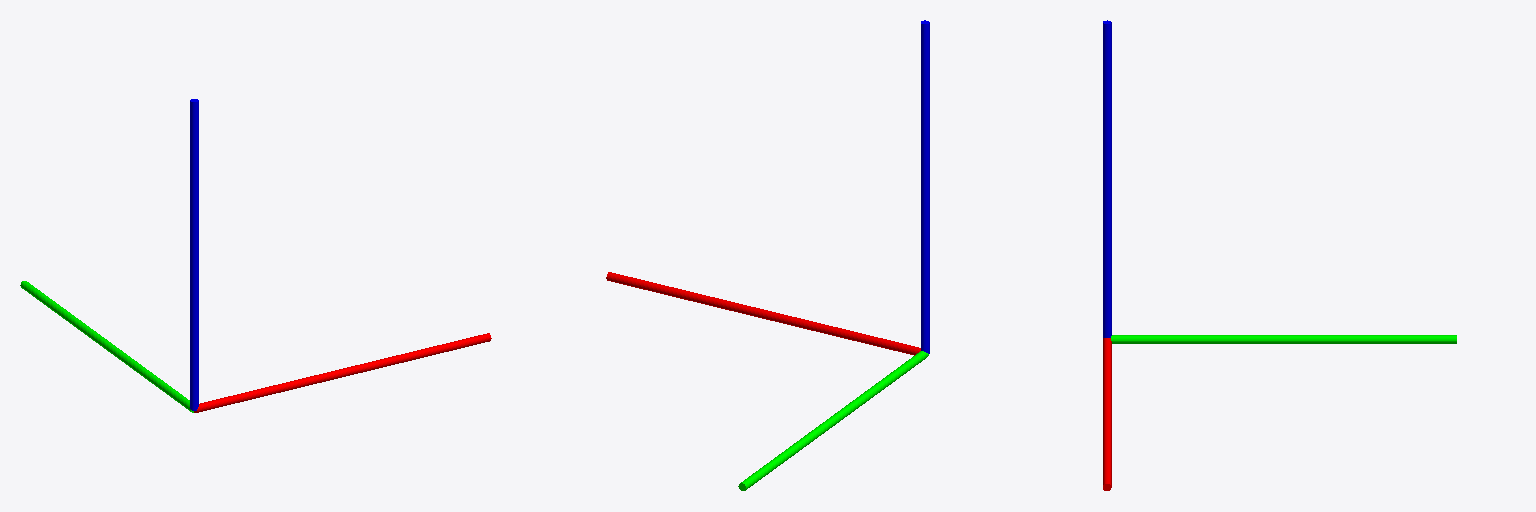
The robot description file, URDF, robot "coordinate_frame":
<?xml version="1.0"?>
<robot name="coordinate_frame">

  <!-- X axis (Red) -->
  <link name="x_axis">
    <visual>
      <origin xyz="0.2 0 0" rpy="0 1.5708 0" />
      <geometry>
        <cylinder length="0.4" radius="0.005" />
      </geometry>
      <material name="red">
        <color rgba="1 0 0 1" />
      </material>
    </visual>
  </link>

  <!-- Y axis (Green) -->
  <link name="y_axis">
    <visual>
      <origin xyz="0 0.2 0" rpy="-1.5708 0 0" />
      <geometry>
        <cylinder length="0.4" radius="0.005" />
      </geometry>
      <material name="green">
        <color rgba="0 1 0 1" />
      </material>
    </visual>
  </link>

  <!-- Z axis (Blue) -->
  <link name="z_axis">
    <visual>
      <origin xyz="0 0 0.2" rpy="0 0 0" />
      <geometry>
        <cylinder length="0.4" radius="0.005" />
      </geometry>
      <material name="blue">
        <color rgba="0 0 1 1" />
      </material>
    </visual>
  </link>

  <!-- Base link -->
  <link name="base_link" />

  <joint name="base_to_x" type="fixed">
    <parent link="base_link" />
    <child link="x_axis" />
    <origin xyz="0 0 0" rpy="0 0 0" />
  </joint>

  <joint name="base_to_y" type="fixed">
    <parent link="base_link" />
    <child link="y_axis" />
    <origin xyz="0 0 0" rpy="0 0 0" />
  </joint>

  <joint name="base_to_z" type="fixed">
    <parent link="base_link" />
    <child link="z_axis" />
    <origin xyz="0 0 0" rpy="0 0 0" />
  </joint>

</robot>

--- What the picture shows (computed from the rendered views, not written in the file) ---
Views: 3 orthographic renders of the robot side by side, from view 1: azimuth 30°, elevation 25°; view 2: azimuth 150°, elevation 25°; view 3: azimuth 270°, elevation 25°.
Model coordinate_frame with 4 links and 3 joints (3 fixed), rooted at base_link, posed all joints at 0.
Links seen in each view (by area): view 1: z_axis, x_axis, y_axis; view 2: z_axis, x_axis, y_axis; view 3: y_axis, z_axis, x_axis.
Boxes of the visible links, x1=… form: z_axis: x1=190, y1=99, x2=198, y2=410; x_axis: x1=194, y1=333, x2=491, y2=412; y_axis: x1=20, y1=281, x2=193, y2=412; z_axis: x1=921, y1=20, x2=929, y2=353; x_axis: x1=606, y1=272, x2=920, y2=355; y_axis: x1=738, y1=351, x2=928, y2=490; y_axis: x1=1111, y1=335, x2=1456, y2=343; z_axis: x1=1103, y1=20, x2=1111, y2=337; x_axis: x1=1103, y1=338, x2=1111, y2=490.
Bounding box of the posed robot: 0.405 × 0.405 × 0.405 m (x, y, z).
Geometry: primitives only (box / cylinder / sphere), no mesh files.
